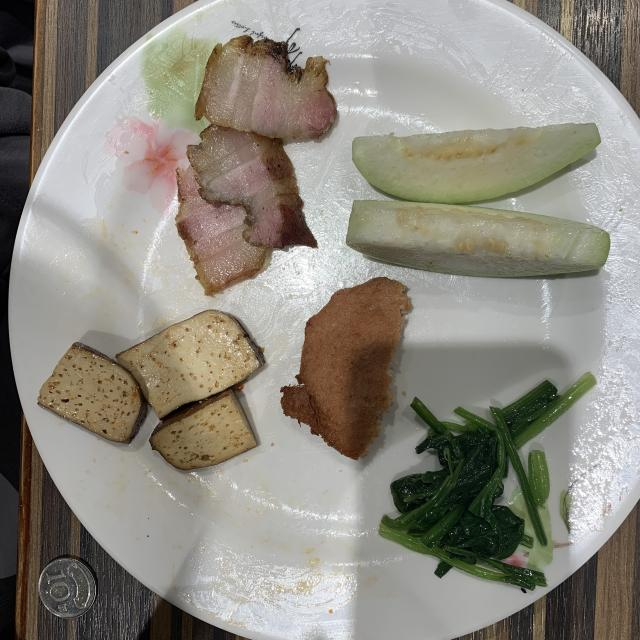Spam: (281, 278, 411, 460)
coin: (39, 556, 96, 619)
firm tofu: (38, 310, 264, 470)
grilled pork: (176, 35, 336, 295)
guava -sliced-: (346, 200, 610, 276), (352, 124, 600, 204)
mustard greens: (380, 372, 596, 590)
